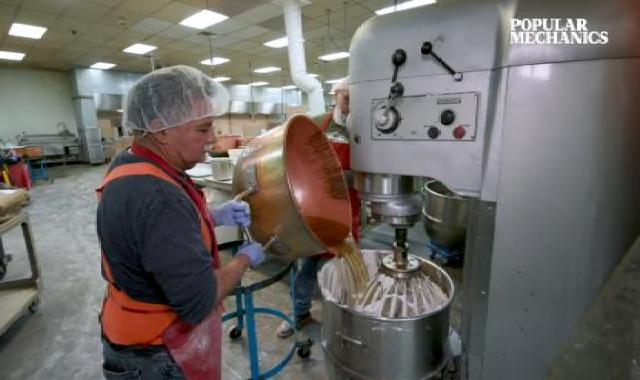hairnet: (113, 63, 236, 135)
